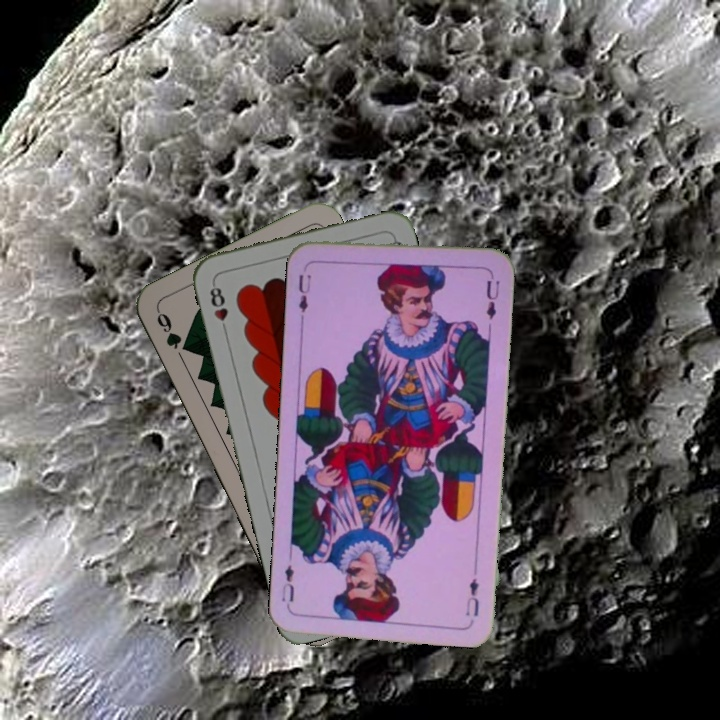EU: (294, 270, 314, 322), (462, 574, 481, 619)
G9: (152, 307, 185, 353)
H8: (206, 279, 231, 337)
